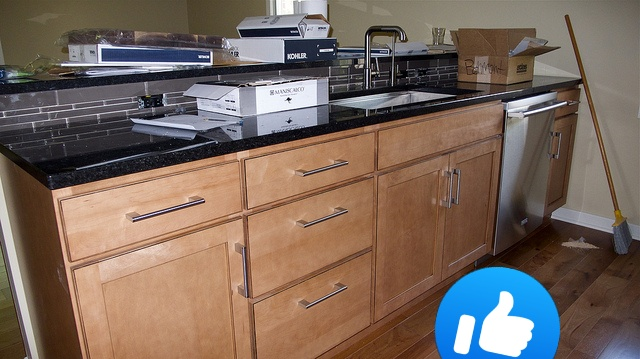like: (435, 267, 560, 359)
